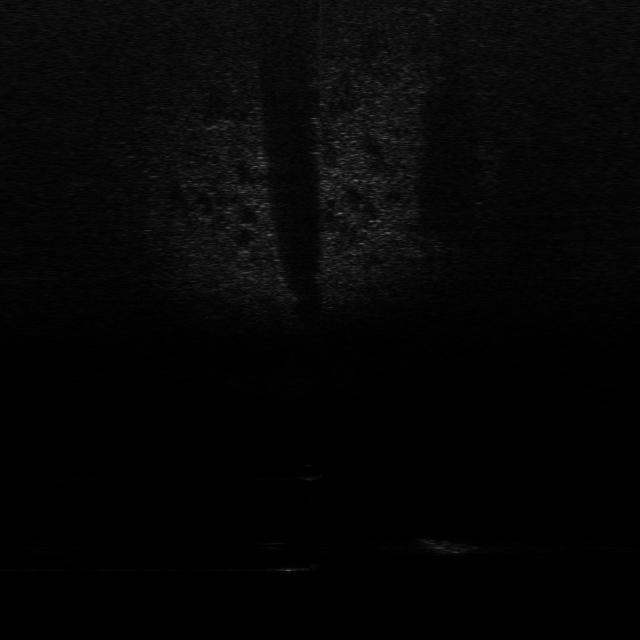ball: (293, 461, 331, 483)
metal bucket: (404, 526, 494, 560)
tyre: (262, 539, 319, 576)
